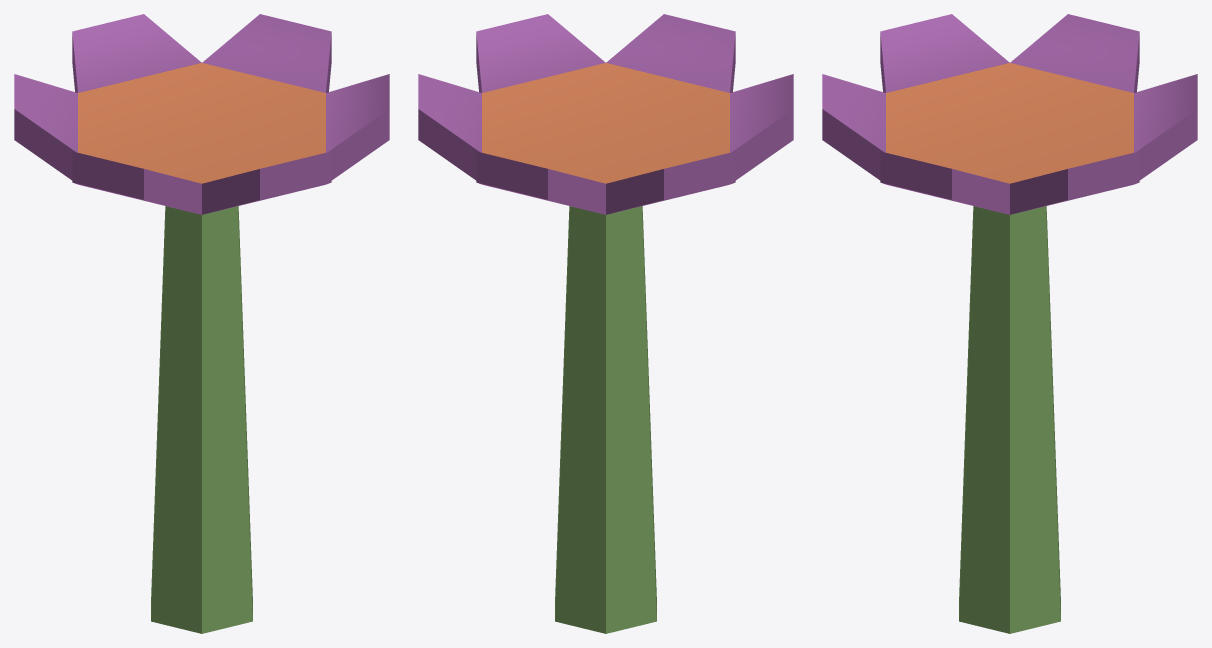
The model's file is FlowerTwoColor.fbx.
The picture shows the model from 3 angles, left to right: view 1: azimuth 30°, elevation 25°; view 2: azimuth 150°, elevation 25°; view 3: azimuth 270°, elevation 25°; orthographic projection.
Parts seen in each view (by area): view 1: Flower_TwoColor; view 2: Flower_TwoColor; view 3: Flower_TwoColor.
Part boxes in pixels (bbox=[...]): Flower_TwoColor: bbox=[14, 14, 389, 633]; Flower_TwoColor: bbox=[418, 14, 793, 633]; Flower_TwoColor: bbox=[822, 14, 1197, 633].
Size of the model in its own units: 16.68 by 26 by 17.08.
